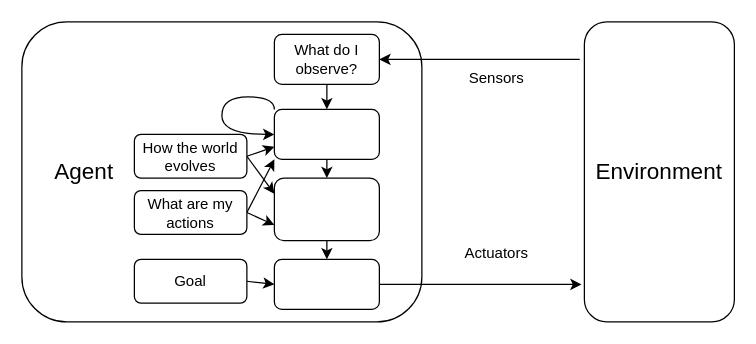
Some shapes in this 756 by 344 pixel diagram are drawn without their labels. Here are the shapes that lost their labels. From the top down, the centre of each, then its label:
At point 326,133: "What the world is like now?".
At point 326,209: "What the world is like after my action".
At point 326,283: "What should I do?".
